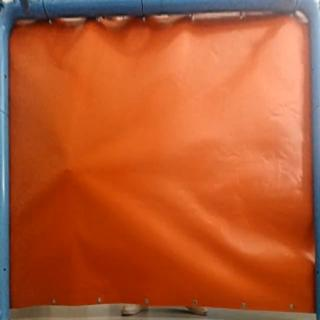Hit-hRxx: (61, 163, 73, 173)
